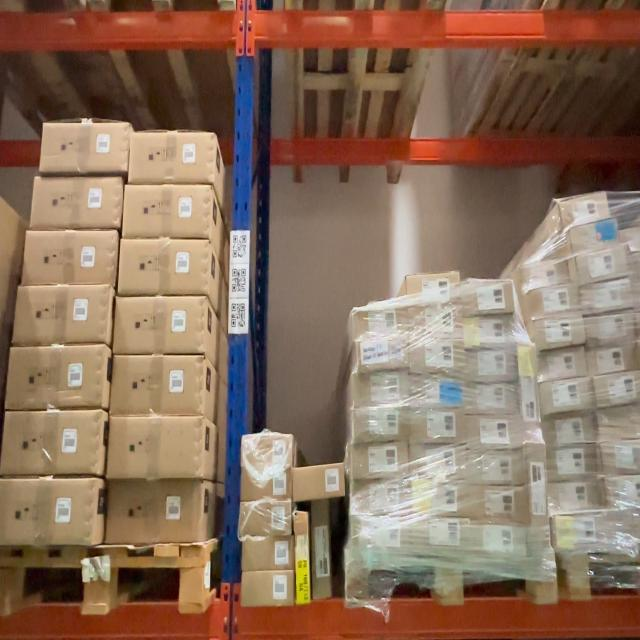box: (109, 418, 200, 480), (10, 348, 100, 404), (106, 486, 199, 540), (114, 356, 200, 414), (126, 183, 207, 241), (117, 299, 199, 353), (19, 285, 104, 337), (24, 232, 112, 282), (122, 242, 204, 292), (35, 177, 116, 227), (41, 121, 126, 168), (132, 134, 216, 180), (354, 368, 407, 405), (353, 483, 408, 517), (411, 336, 461, 371), (464, 524, 524, 553), (410, 374, 461, 408), (351, 452, 405, 484), (409, 408, 457, 444), (464, 278, 514, 312), (463, 416, 517, 447), (354, 410, 405, 442), (464, 494, 523, 521), (462, 351, 516, 380), (408, 272, 461, 301), (244, 571, 292, 603), (464, 456, 518, 484), (354, 306, 406, 334), (292, 467, 343, 495), (242, 438, 294, 465), (412, 521, 462, 549), (243, 502, 286, 534), (352, 521, 407, 546), (463, 319, 513, 346), (462, 387, 514, 412), (412, 449, 456, 478), (411, 305, 459, 331), (243, 469, 290, 495), (358, 342, 406, 367), (296, 518, 310, 603), (411, 490, 458, 514), (247, 540, 290, 566)
